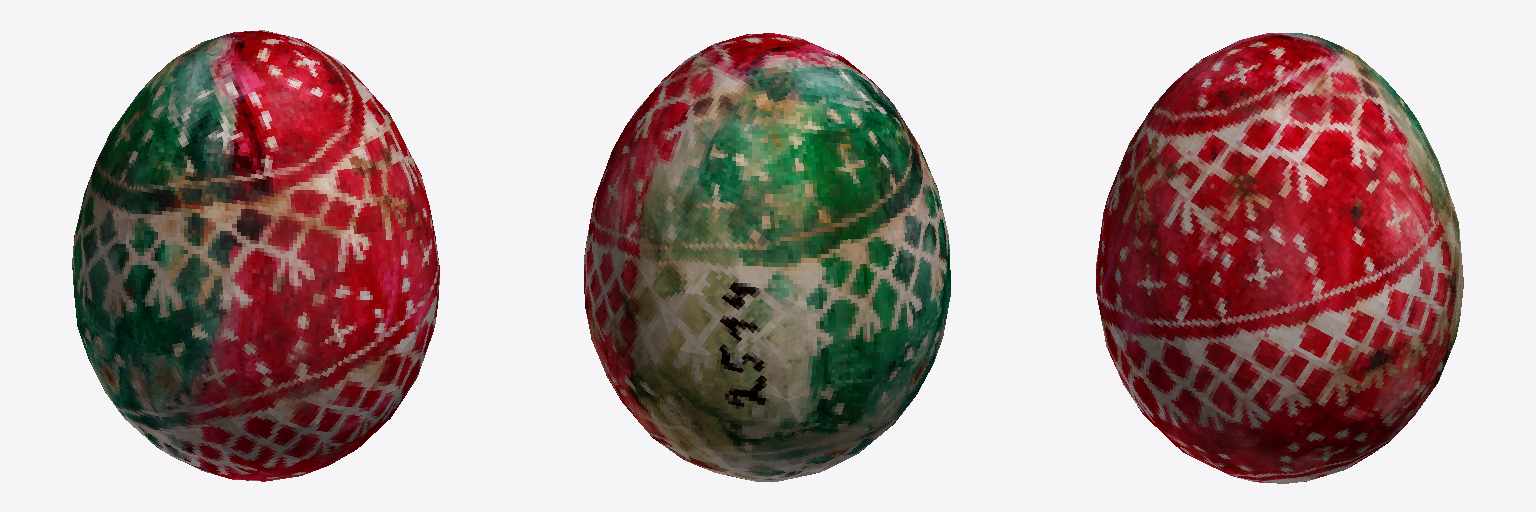
3 renders of one model, left to right at view 1: azimuth 30°, elevation 25°; view 2: azimuth 150°, elevation 25°; view 3: azimuth 270°, elevation 25°, orthographic.
Visible parts, largest first — view 1: hp.017; view 2: hp.017; view 3: hp.017.
Part boxes in pixels (left/top/right/bottom): hp.017: left=72, top=30, right=439, bottom=481; hp.017: left=584, top=33, right=950, bottom=481; hp.017: left=1096, top=33, right=1463, bottom=483.
Size of the model in its own units: 41.77 by 53.04 by 41.68.
Materials: 1 (1 with a texture image).